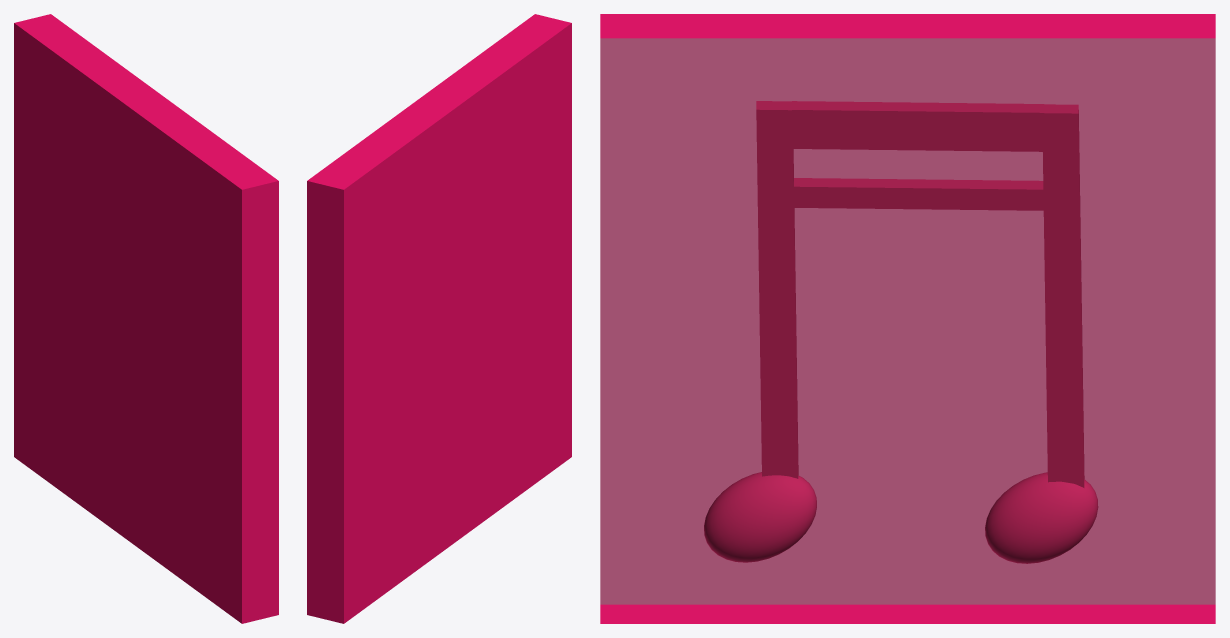
File: NotaMusicalRosa_ParaUnity.fbx
3 renders of one model, left to right at view 1: azimuth 30°, elevation 25°; view 2: azimuth 150°, elevation 25°; view 3: azimuth 270°, elevation 25°, orthographic. The views are drawn at different scales.
Visible parts, largest first — view 1: Marco; view 2: Marco; view 3: Marco, NotaMusical.
Part boxes in pixels (box(x1,y1,x2,y2)): Marco: box(14, 14, 278, 623); Marco: box(307, 14, 571, 623); Marco: box(600, 14, 1215, 623); NotaMusical: box(704, 101, 1098, 563).
Size of the model in its own units: 50.82 by 344 by 327.
Materials: 2 (2 with a texture image).
